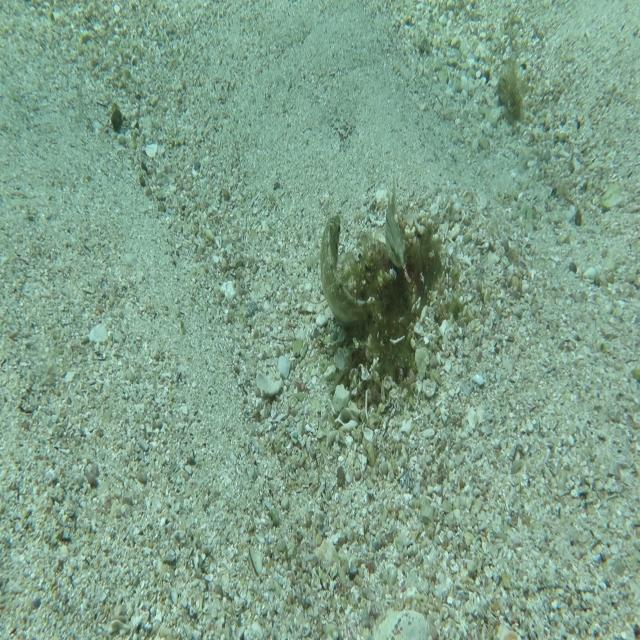BEND: (306, 213, 384, 327)
female: (382, 171, 408, 269)
nest: (316, 196, 454, 412)
